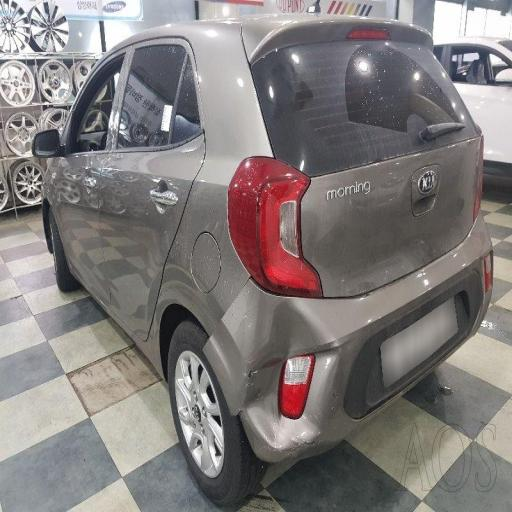broken: (193, 214, 344, 416)
dent: (241, 332, 344, 462)
scratch: (46, 145, 156, 236)
